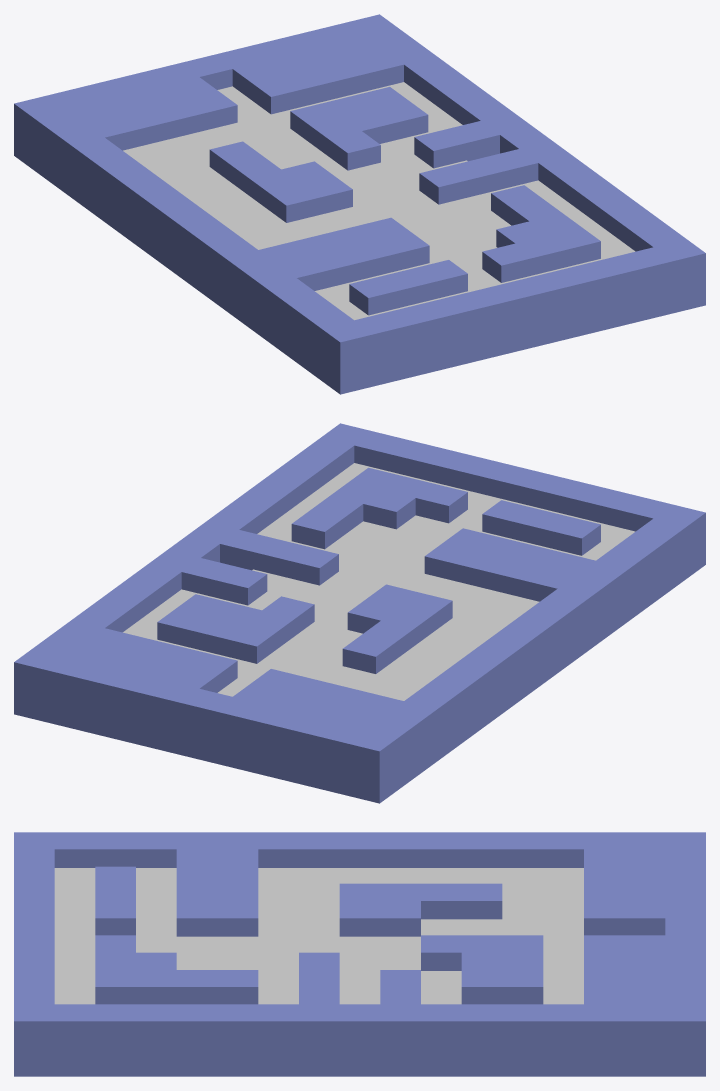
The model's file is 027_platform.fbx.
The picture shows the model from 3 angles, top to bottom: view 1: azimuth 30°, elevation 25°; view 2: azimuth 150°, elevation 25°; view 3: azimuth 270°, elevation 25°; orthographic projection. The views are drawn at different scales.
Parts seen in each view (by area): view 1: Grid; view 2: Grid; view 3: Grid.
Part boxes in pixels (x1,y1,x2,y2): Grid: (14, 14, 705, 394); Grid: (14, 423, 705, 803); Grid: (14, 832, 705, 1076).
Size of the model in its own units: 1100 by 150 by 1700.
